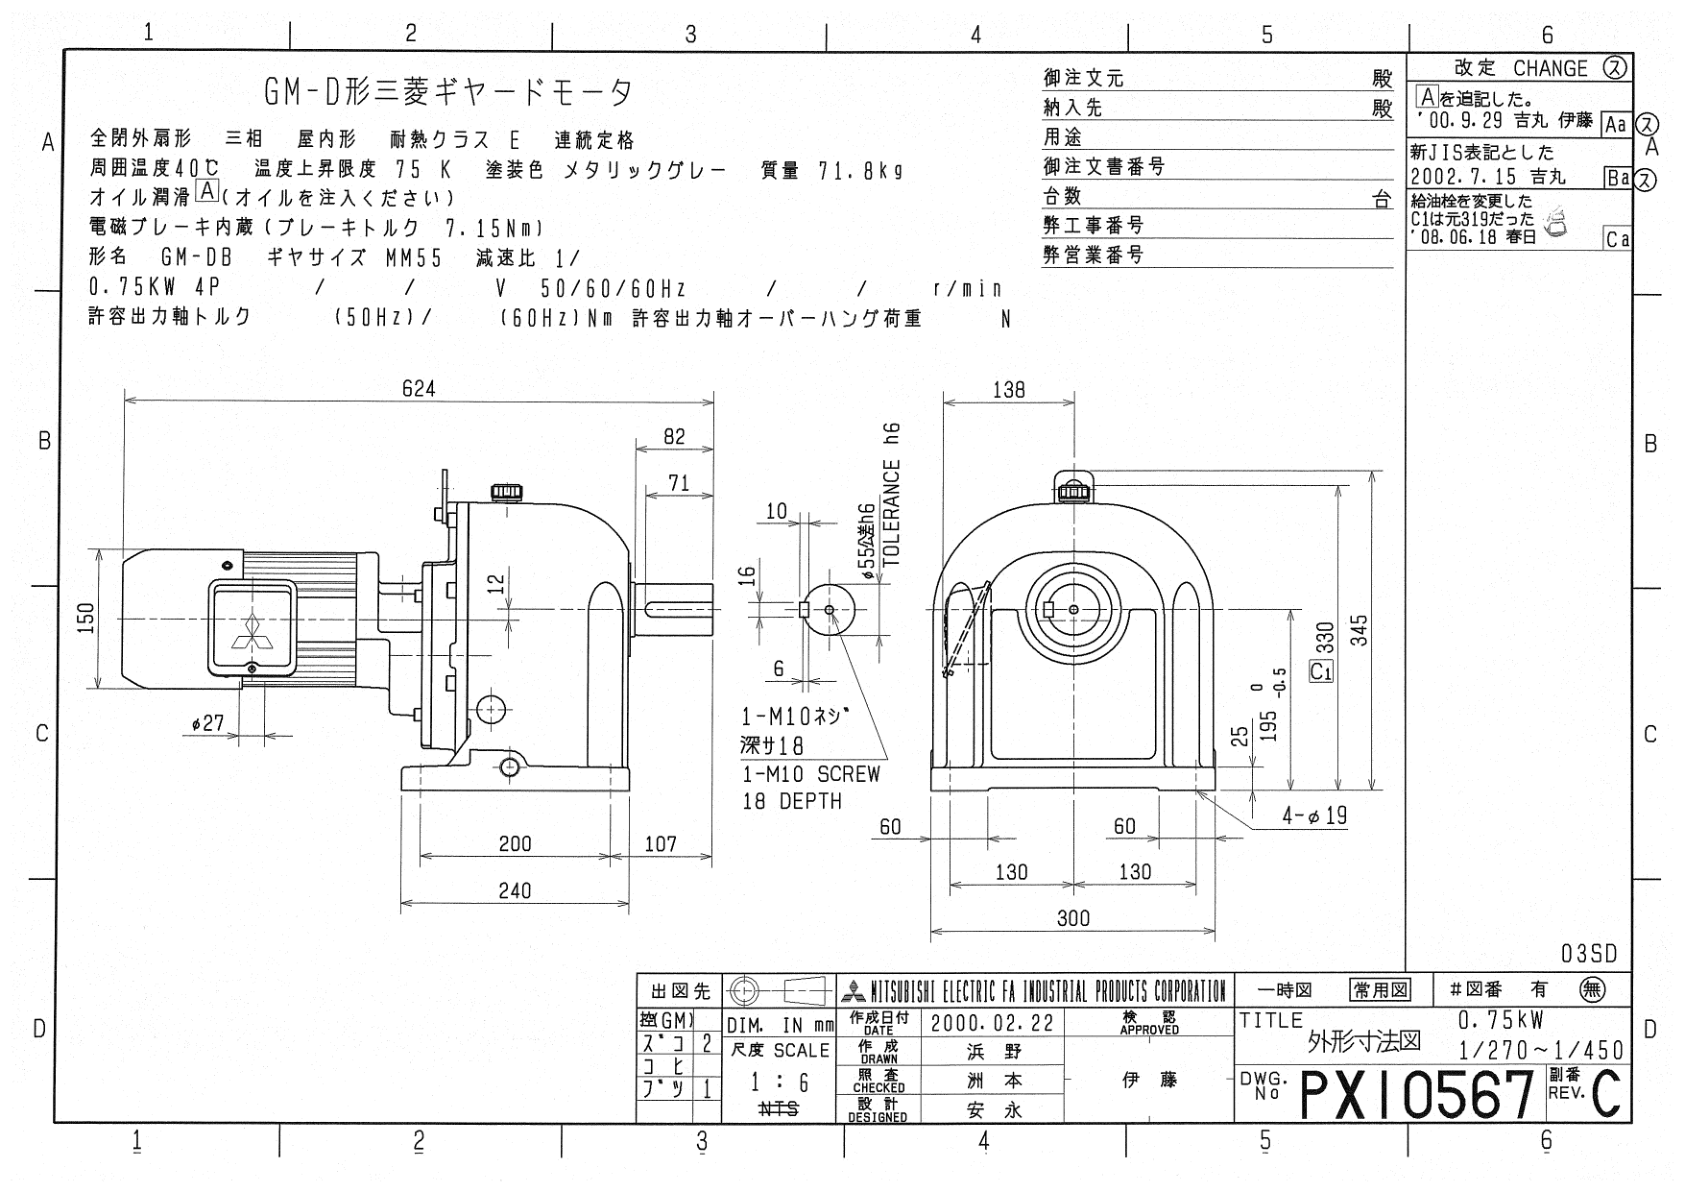GM_D_屋内＿三相_脚: (70, 346, 1386, 952)
